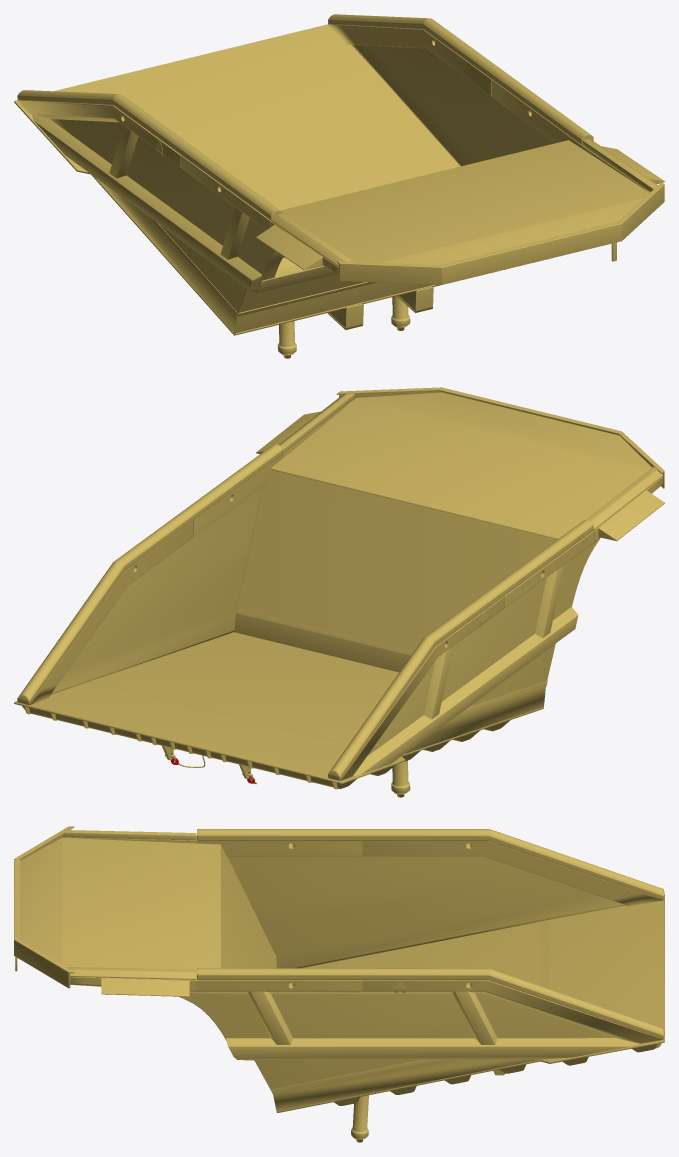
The model's file is Caterpillar_793-F_Tolva.glb.
3 views of the same model, one above another, from view 1: azimuth 30°, elevation 25°; view 2: azimuth 150°, elevation 25°; view 3: azimuth 270°, elevation 25° (orthographic). The views are drawn at different scales.
Visible parts, largest first — view 1: body; view 2: body; view 3: body.
Boxes of the visible parts, x1=… form: body: x1=14, y1=14, x2=664, y2=358; body: x1=14, y1=387, x2=664, y2=797; body: x1=14, y1=826, x2=664, y2=1142.
Size of the model in its own units: 791 by 493 by 1342.
